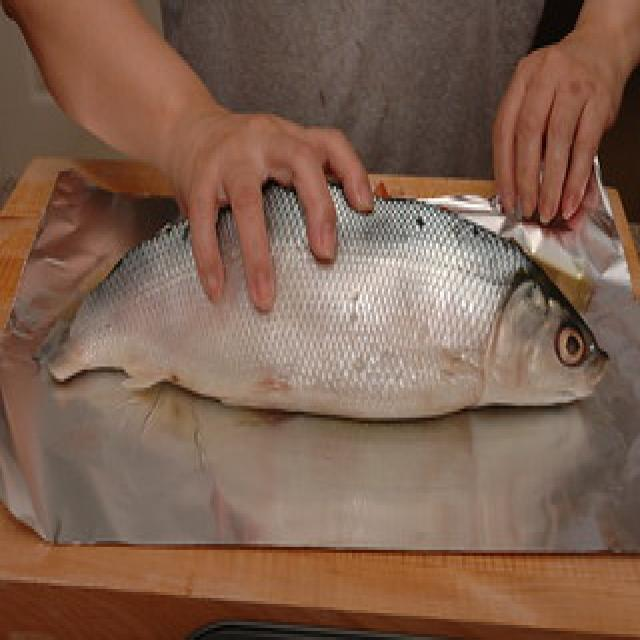Bangus: (40, 148, 627, 462)
